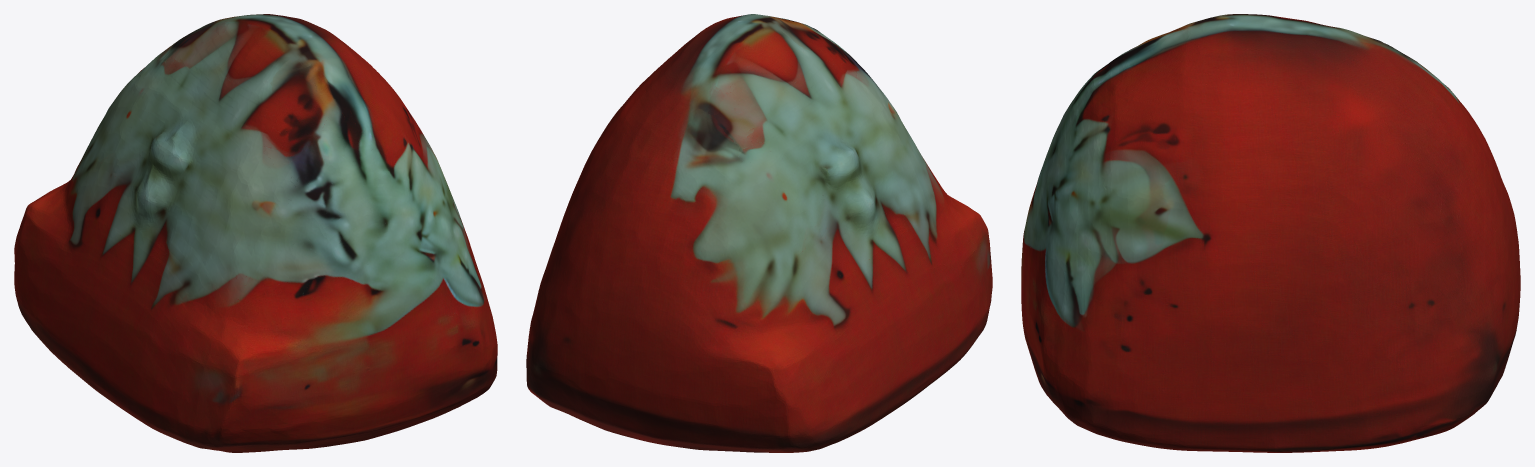
The model's file is image_0002_segmented.glb.
The picture shows the model from 3 angles, left to right: view 1: azimuth 30°, elevation 25°; view 2: azimuth 150°, elevation 25°; view 3: azimuth 270°, elevation 25°; orthographic projection. The views are drawn at different scales.
Visible parts, largest first — view 1: tmp0z94h95_.ply; view 2: tmp0z94h95_.ply; view 3: tmp0z94h95_.ply.
Boxes of the visible parts, <box> form: tmp0z94h95_.ply: <box>14,14,497,452</box>; tmp0z94h95_.ply: <box>526,14,992,452</box>; tmp0z94h95_.ply: <box>1021,14,1520,452</box>.
Bounding box in the file's own units: 1.66 × 1.65 × 1.99.
Materials: 1 (1 with a texture image).
